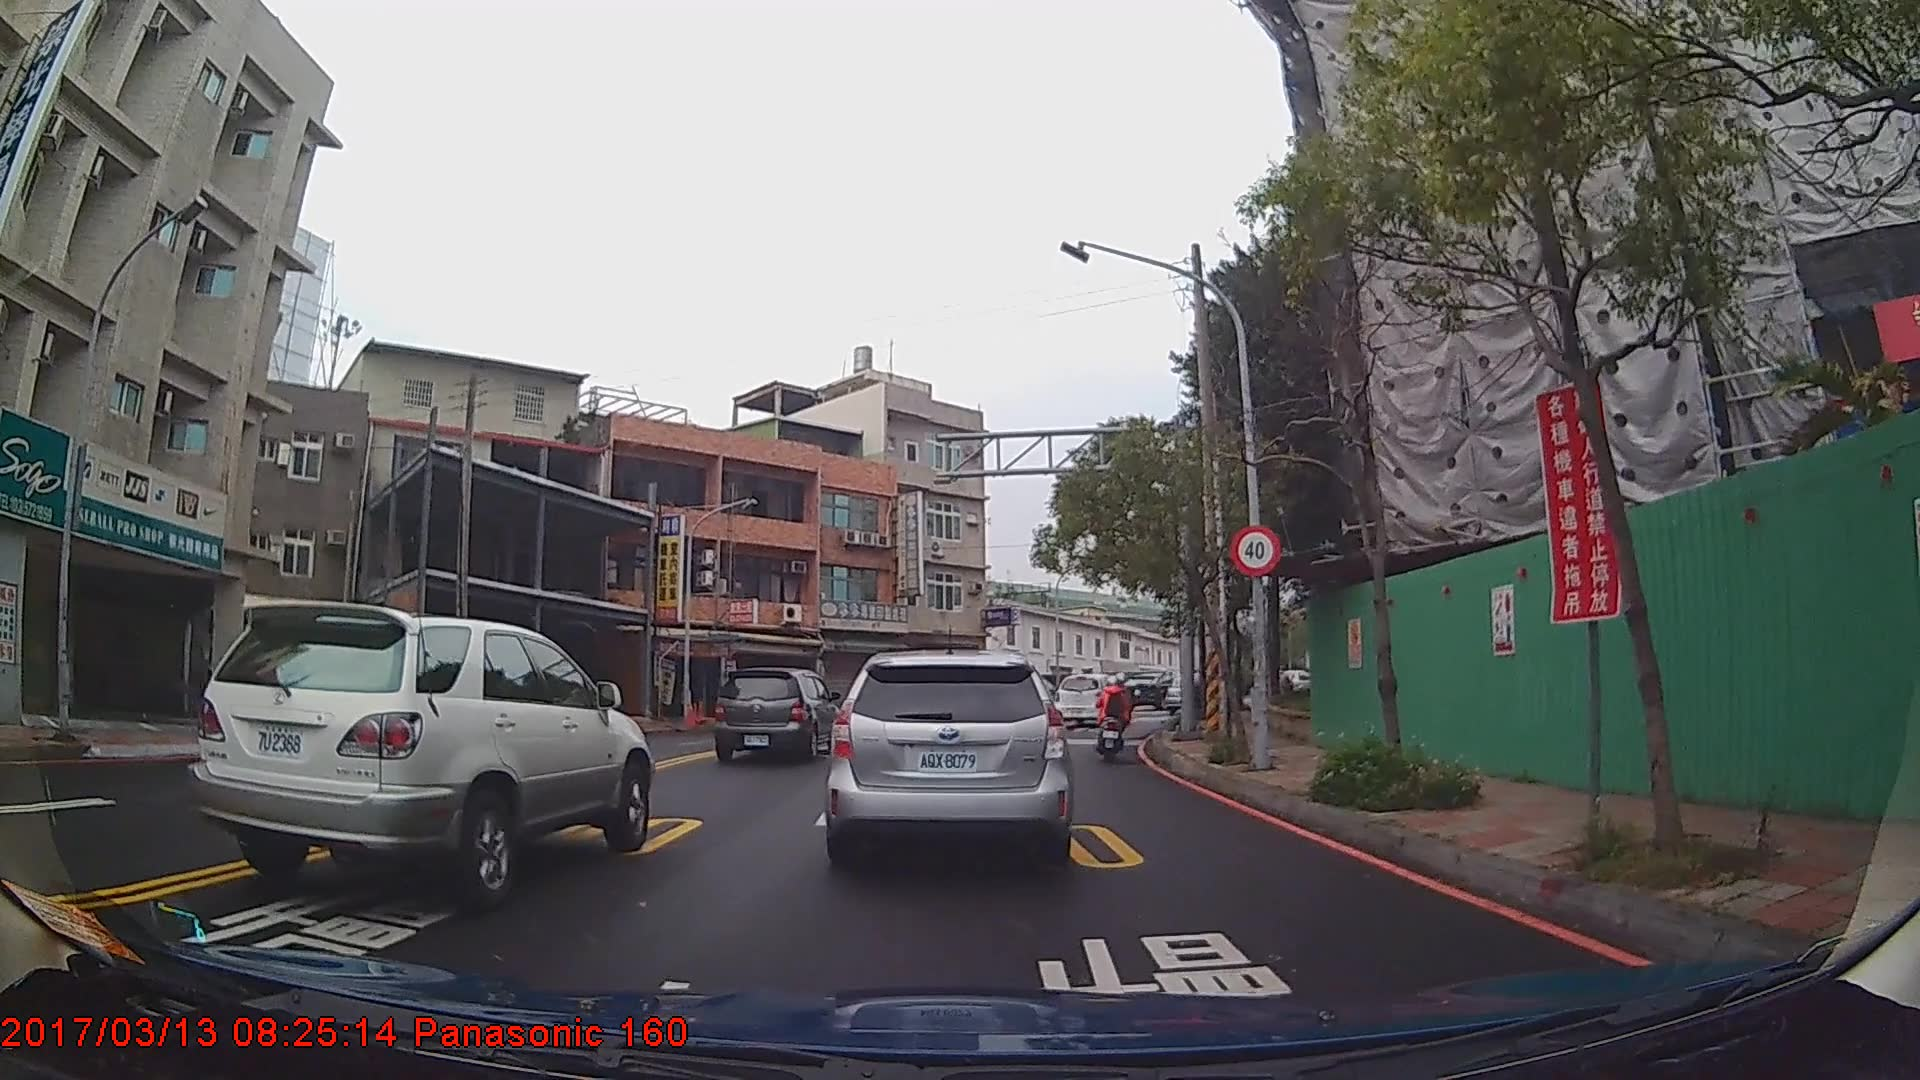rider: (1098, 674, 1132, 757)
vehicle: (188, 599, 654, 905), (821, 650, 1074, 873), (710, 667, 840, 761), (1052, 670, 1127, 725)
